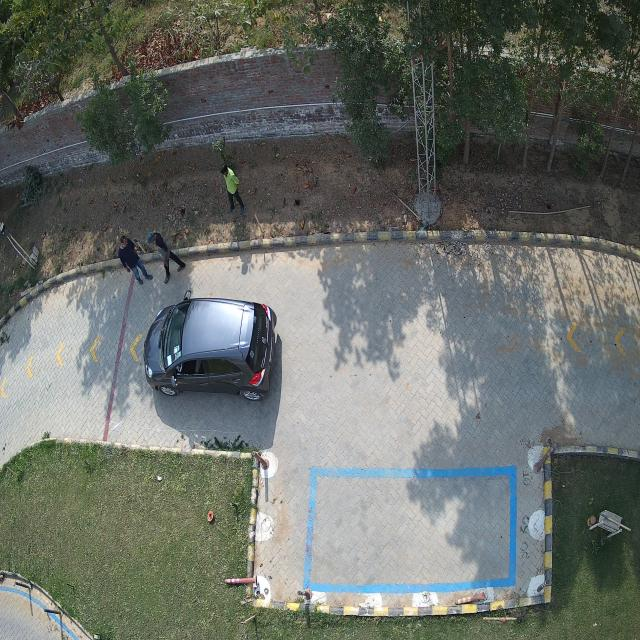car: (143, 299, 280, 402)
